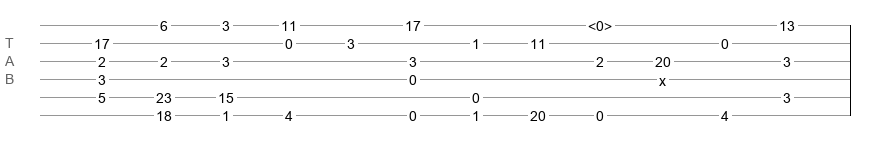0: (285, 36, 293, 46), (409, 108, 417, 118), (409, 72, 417, 82), (472, 90, 480, 100), (596, 108, 604, 118), (721, 36, 729, 46)
1: (222, 108, 230, 118), (472, 36, 480, 46), (472, 108, 480, 118)
11: (281, 18, 297, 28), (530, 36, 546, 46)
13: (779, 18, 795, 28)
15: (218, 90, 234, 100)
17: (94, 36, 110, 46), (405, 18, 421, 28)
18: (156, 108, 172, 118)
2: (98, 54, 106, 64), (160, 54, 168, 64), (596, 54, 604, 64)
20: (530, 108, 546, 118), (655, 54, 671, 64)
23: (156, 90, 172, 100)
3: (98, 72, 106, 82), (222, 54, 230, 64), (222, 18, 230, 28), (347, 36, 355, 46), (409, 54, 417, 64), (783, 90, 791, 100), (783, 54, 791, 64)
4: (285, 108, 293, 118), (721, 108, 729, 118)
5: (98, 90, 106, 100)
6: (160, 18, 168, 28)
harmonic: (588, 18, 612, 28)
x: (659, 73, 666, 81)
